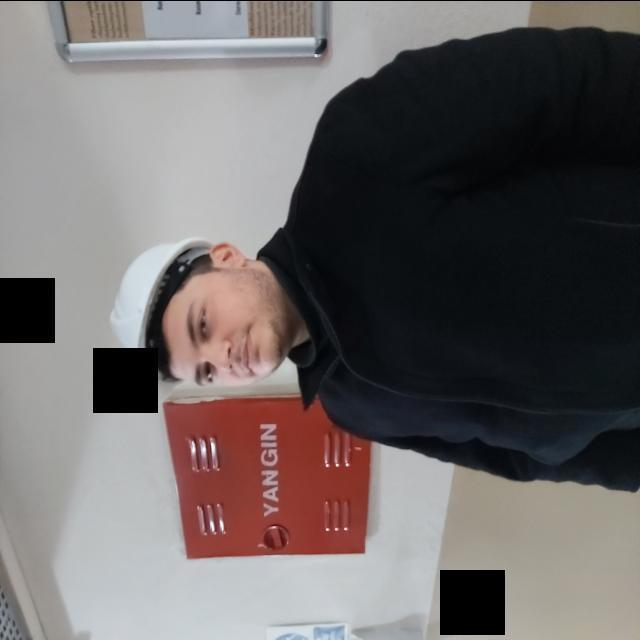helmet: (98, 238, 196, 398)
